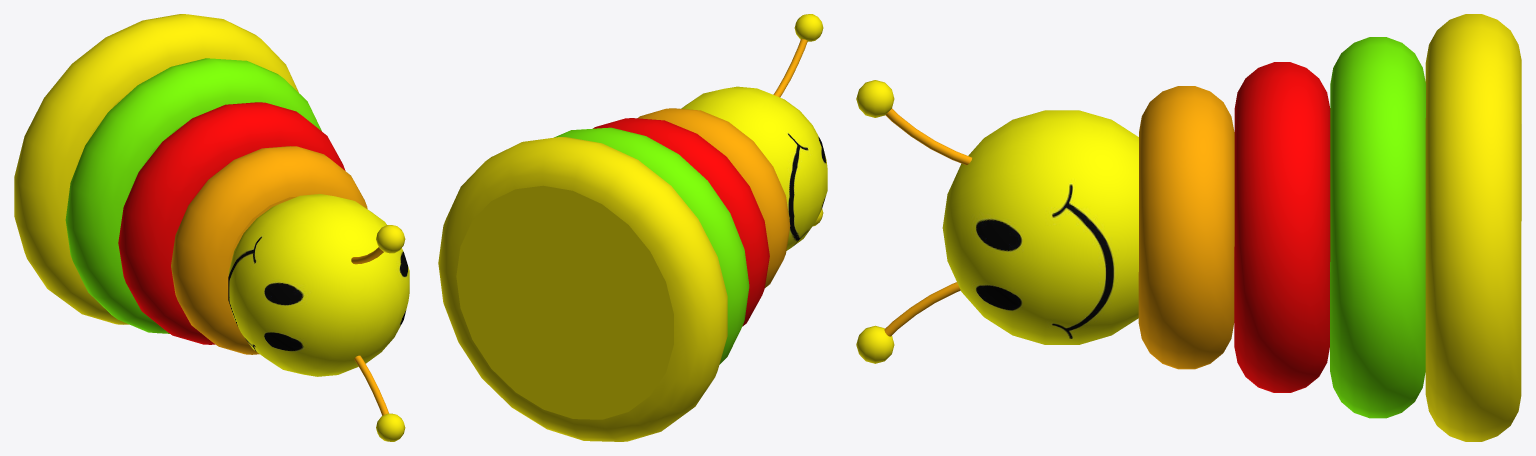
The model's file is sweethome3d-lucapresidente-smiley-tower.glb.
3 renders of one model, left to right at view 1: azimuth 30°, elevation 25°; view 2: azimuth 150°, elevation 25°; view 3: azimuth 270°, elevation 25°, orthographic. The views are drawn at different scales.
Visible parts, largest first — view 1: Sphere001_5, Arc001_1, Arc005_2, Arc006_3, Arc007_4, Sphere002_6, Sphere003_8, Cylinder001_7; view 2: Arc001_1, Sphere001_5, Arc005_2, Arc006_3, Arc007_4, Sphere003_8, Cylinder002_9; view 3: Arc001_1, Sphere001_5, Arc005_2, Arc006_3, Arc007_4, Sphere003_8, Sphere002_6, Cylinder002_9, Cylinder001_7.
Boxes of the visible parts, x1,y1,x2,y2 form: Sphere001_5: (228, 194, 409, 376); Arc001_1: (14, 14, 298, 324); Arc005_2: (65, 58, 321, 333); Arc006_3: (118, 102, 345, 344); Arc007_4: (171, 146, 367, 354); Sphere002_6: (376, 413, 405, 441); Sphere003_8: (376, 225, 405, 253); Cylinder001_7: (354, 355, 388, 415); Arc001_1: (438, 137, 727, 441); Sphere001_5: (681, 86, 827, 250); Arc005_2: (554, 127, 749, 364); Arc006_3: (593, 118, 769, 326); Arc007_4: (637, 108, 790, 287); Sphere003_8: (794, 14, 823, 41); Cylinder002_9: (773, 38, 807, 97); Arc001_1: (1425, 14, 1521, 441); Sphere001_5: (942, 110, 1138, 344); Arc005_2: (1330, 37, 1425, 418); Arc006_3: (1234, 62, 1330, 392); Arc007_4: (1138, 86, 1234, 369); Sphere003_8: (856, 80, 894, 117); Sphere002_6: (856, 325, 894, 363); Cylinder002_9: (885, 108, 971, 165); Cylinder001_7: (884, 282, 960, 336).
Bounding box in the file's own units: 13.4 × 13.42 × 20.86.
Materials: 7 (1 with a texture image).
